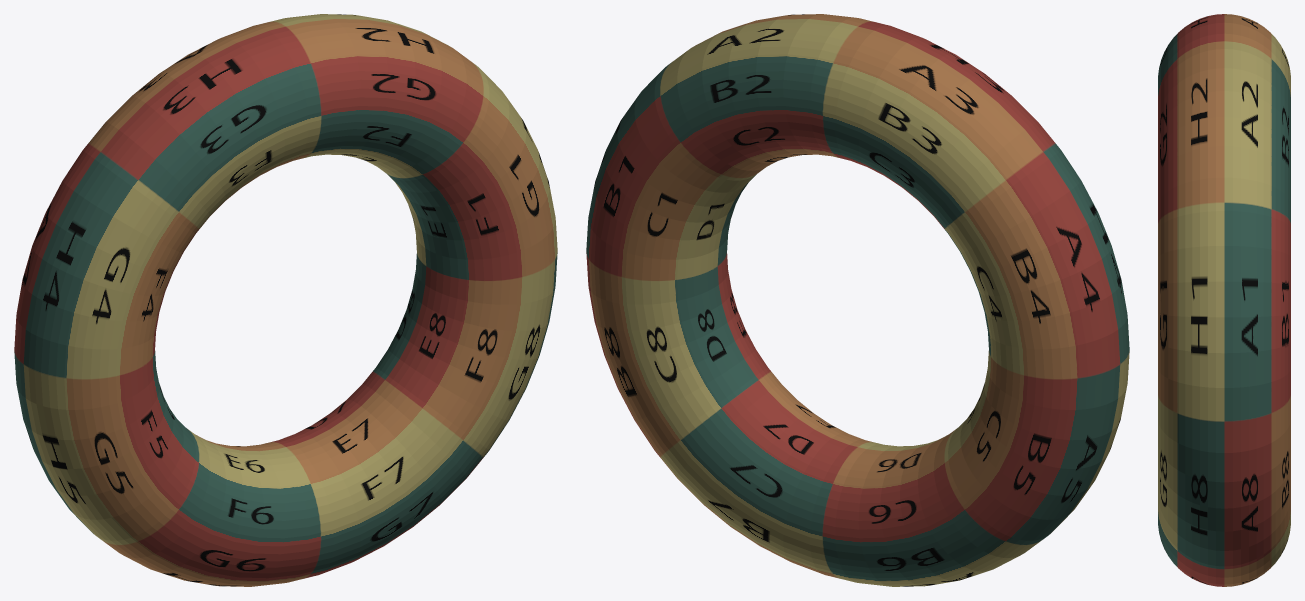
File: texture_torus_R20_r19.glb
3 renders of one model, left to right at view 1: azimuth 30°, elevation 25°; view 2: azimuth 150°, elevation 25°; view 3: azimuth 270°, elevation 25°, orthographic. The views are drawn at different scales.
Parts seen in each view (by area): view 1: world; view 2: world; view 3: world.
Boxes of the visible parts, left/top/right/bottom form: world: left=14, top=14, right=557, bottom=586; world: left=586, top=14, right=1129, bottom=586; world: left=1158, top=14, right=1290, bottom=586.
Size of the model in its own units: 30.4 by 30.34 by 7.05.
1 material, 1 textured.
